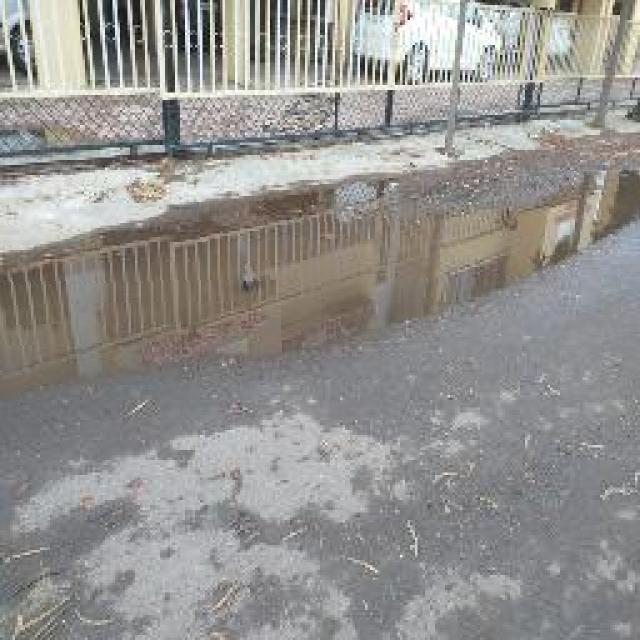puddle: (1, 174, 640, 385)
